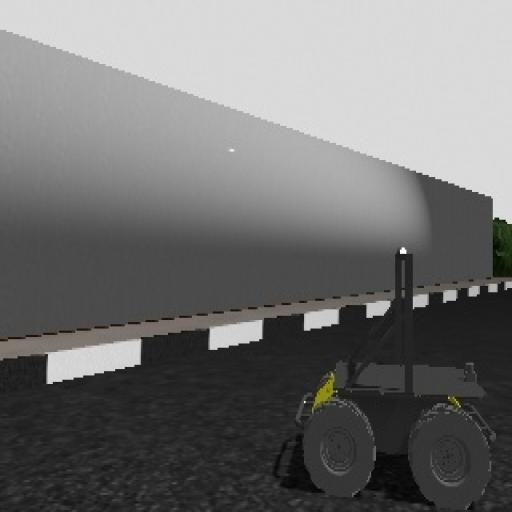huskya200: (276, 234, 502, 512)
